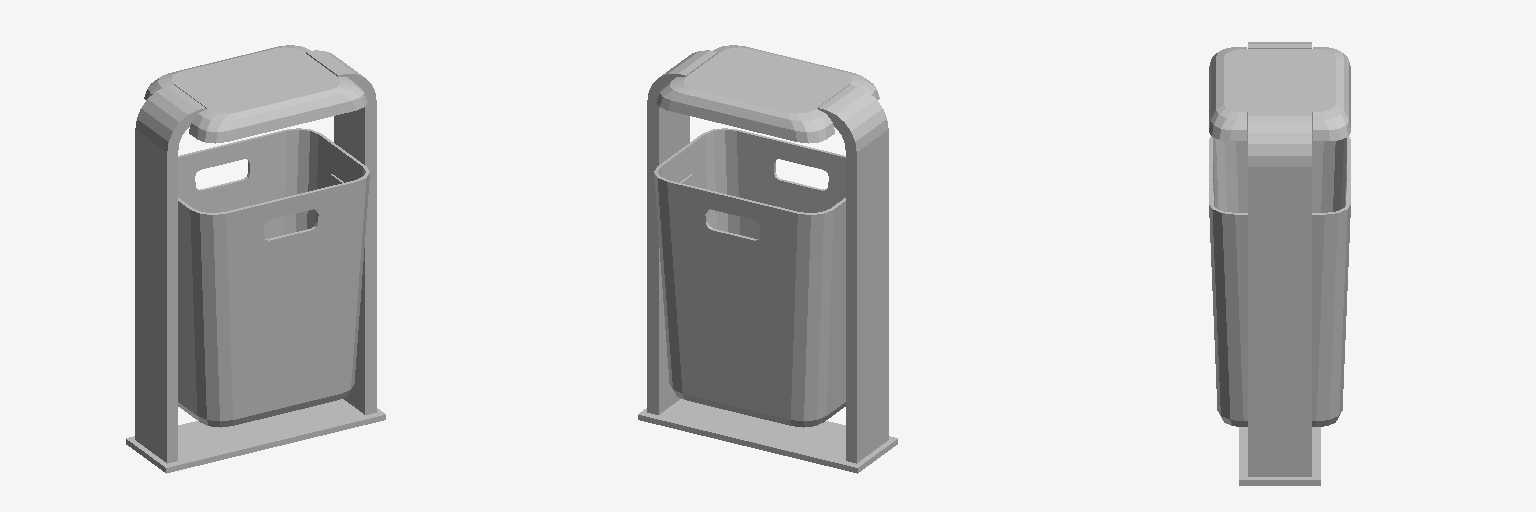
File: waste_basket.obj
The picture shows the model from 3 angles: view 1: azimuth 30°, elevation 25°; view 2: azimuth 150°, elevation 25°; view 3: azimuth 270°, elevation 25°; orthographic projection.
Parts seen in each view (by area): view 1: trash_bin_lowpoly_Plane.003; view 2: trash_bin_lowpoly_Plane.003; view 3: trash_bin_lowpoly_Plane.003.
Boxes of the visible parts, x1,y1,x2,y2 form: trash_bin_lowpoly_Plane.003: [126, 45, 385, 473]; trash_bin_lowpoly_Plane.003: [638, 45, 897, 473]; trash_bin_lowpoly_Plane.003: [1209, 42, 1350, 485].
Bounding box in the file's own units: 0.6824 × 1.04 × 0.3817.